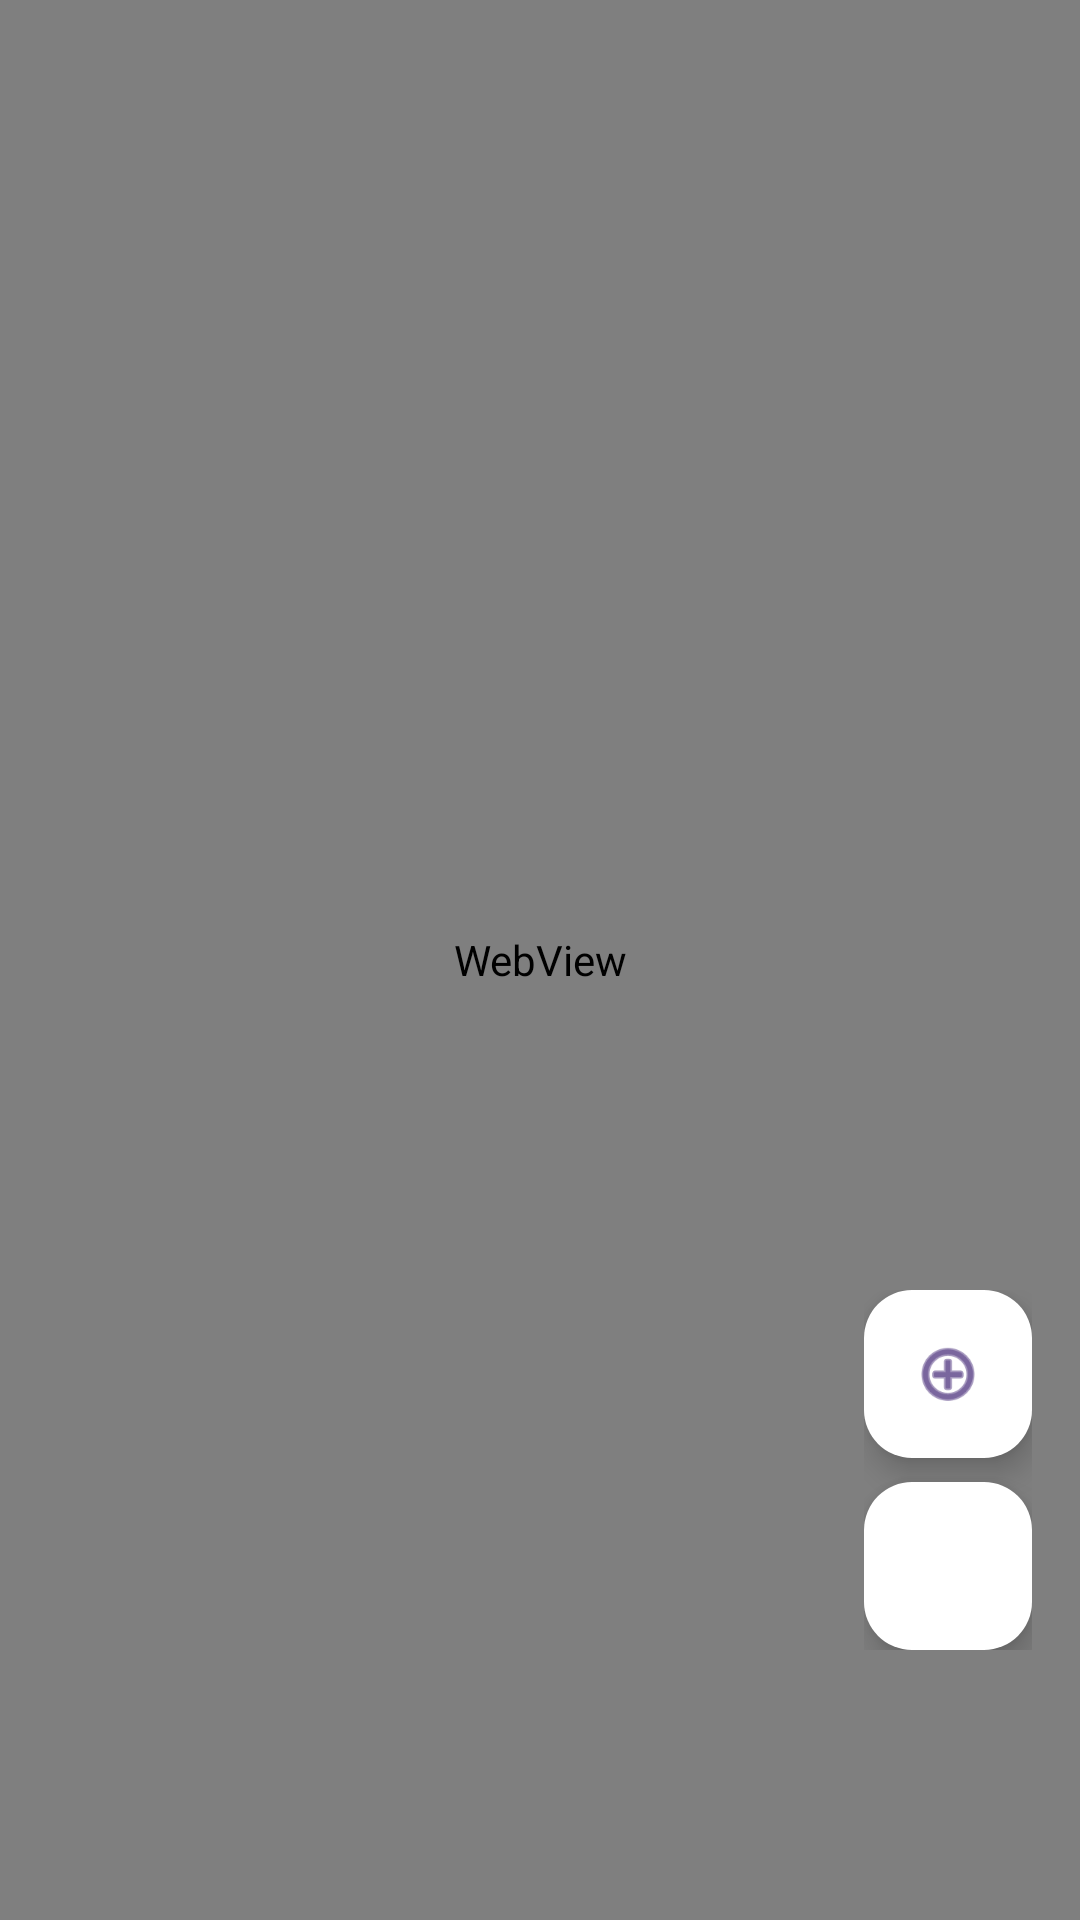

Icons on this 1080×1920 Android screen, each with the point to tap as [x,y]:
Yazıyı Büyüt: [948,1374]
